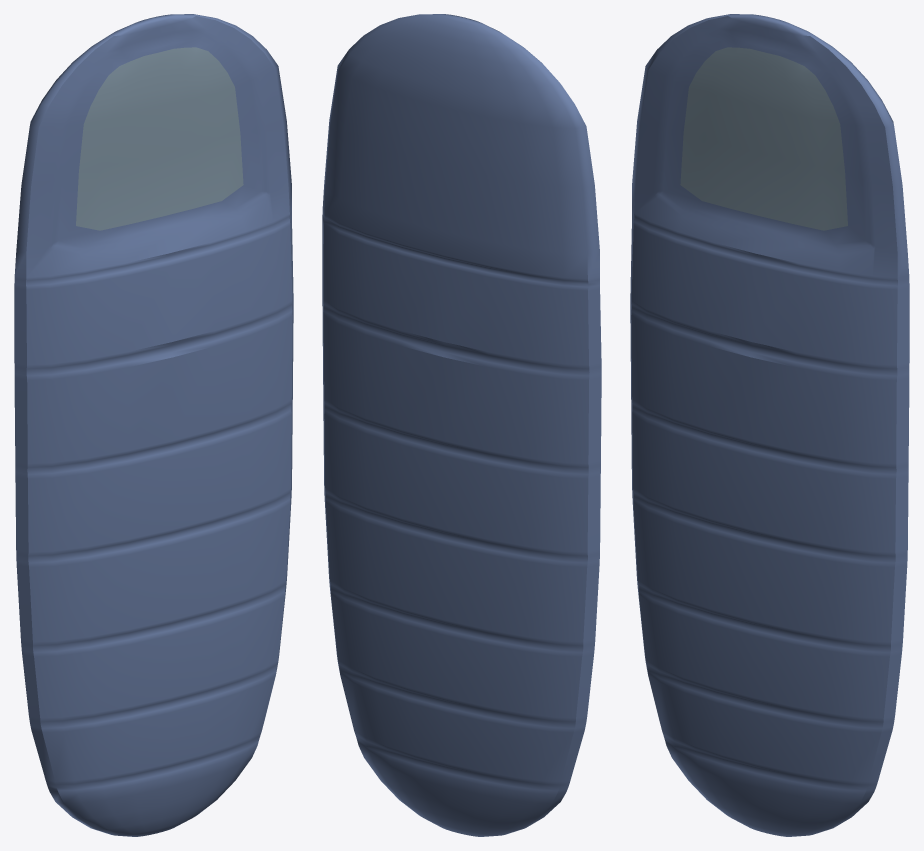
Rendered from SleepingBag.fbx.
3 renders of one model, left to right at view 1: azimuth 30°, elevation 25°; view 2: azimuth 150°, elevation 25°; view 3: azimuth 330°, elevation 25°, orthographic.
Visible parts, largest first — view 1: SleepingBag; view 2: SleepingBag; view 3: SleepingBag.
Boxes of the visible parts, x1,y1,x2,y2 form: SleepingBag: (14, 14, 293, 836); SleepingBag: (322, 14, 601, 836); SleepingBag: (630, 14, 909, 836).
Bounding box in the file's own units: 2.98 × 8.33 × 0.6889.
